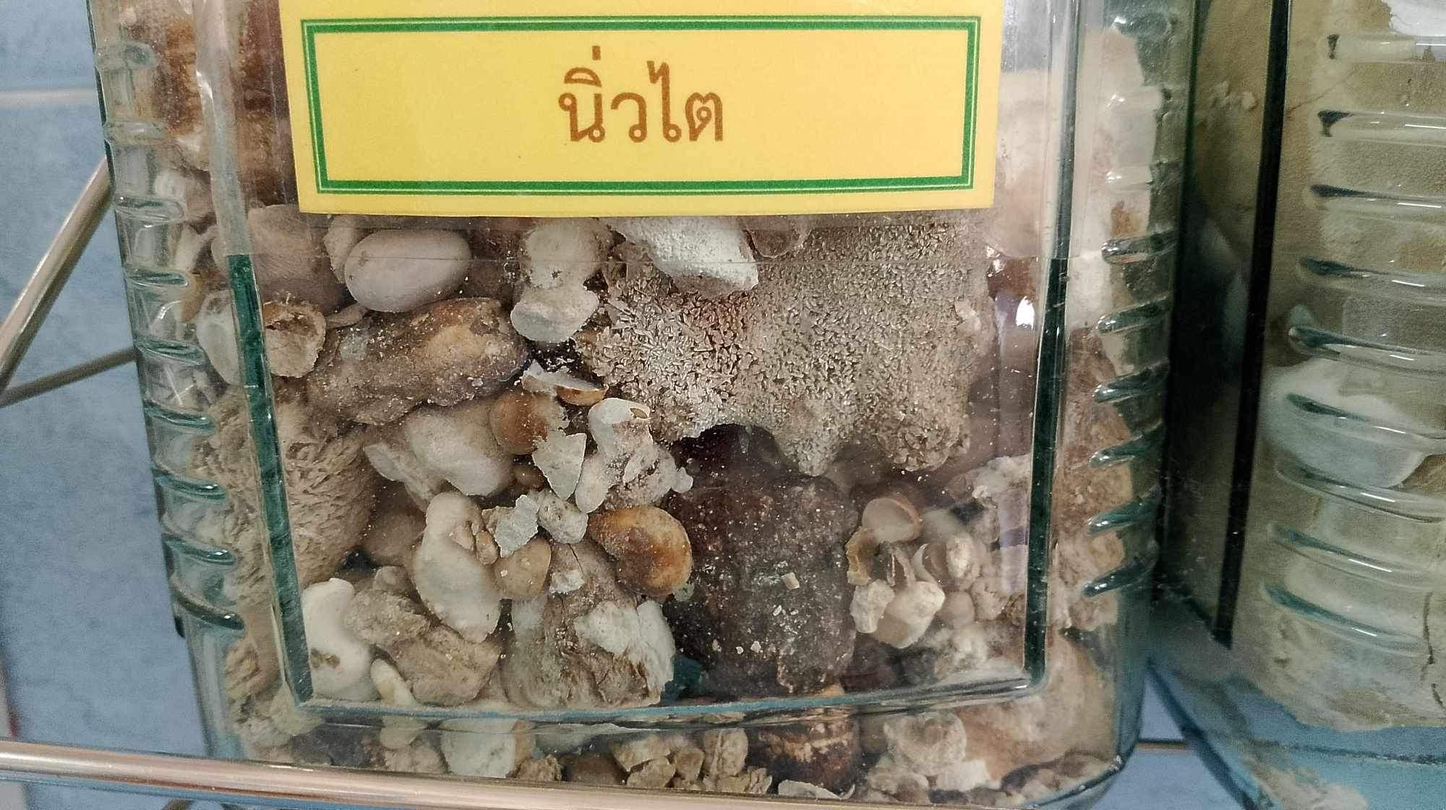General: (70, 3, 1198, 806), (275, 5, 1006, 220)
